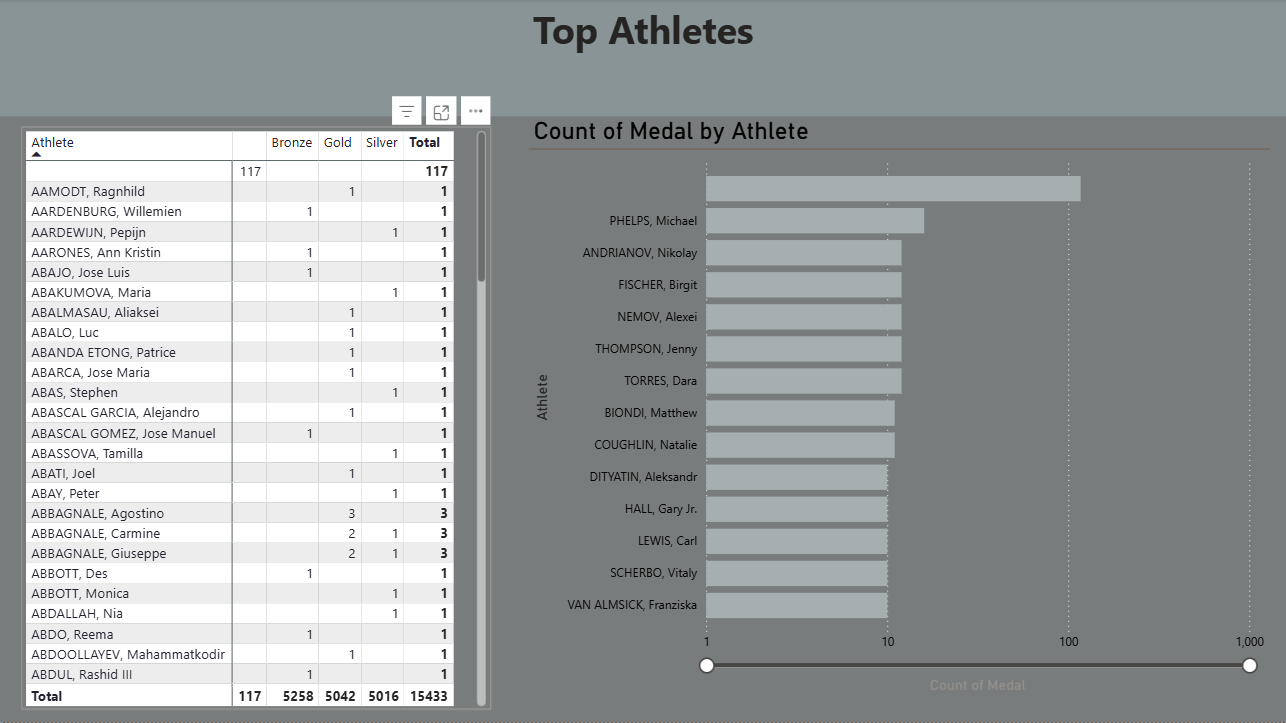

The dashboard page shown, as its layout file describes it:
{"tool":"powerbi","page":{"name":"Page 4","canvas":[1280,720],"ordinal":3},"visuals":[{"type":"textbox","box":[0,0,1280,116.9],"z":0},{"type":"pivotTable","fields":{"Rows":["summer_olympic.Athlete"],"Columns":["summer_olympic.Medal "],"Values":["CountNonNull(summer_olympic.Medal )"]},"box":[21.6,127,467.5,581.4],"z":1000},{"type":"barChart","fields":{"Category":["summer_olympic.Athlete"],"Y":["CountNonNull(summer_olympic.Medal )"]},"box":[526.6,116.9,737.3,577.1],"z":2000}]}

Visuals, with their boxes in screenshot pixels (x1, y1, x2, y2), scaled from the page's 1280x720 canvas onto the 1286x723 screenshot:
textbox: pyautogui.locateOnScreen(0, 0, 1285, 117)
pivotTable - summer_olympic.Athlete x summer_olympic.Medal : pyautogui.locateOnScreen(22, 128, 491, 711)
barChart - summer_olympic.Athlete x CountNonNull(summer_olympic.Medal ): pyautogui.locateOnScreen(529, 117, 1270, 697)
